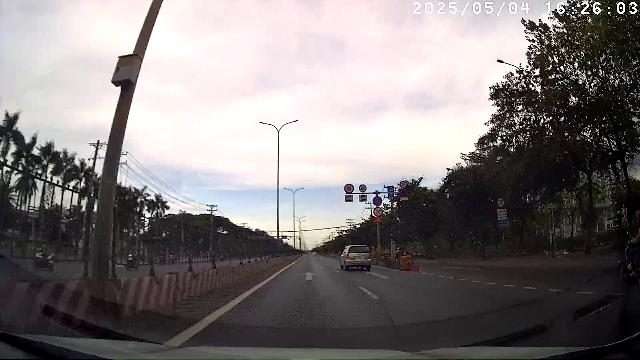127-toc-do-toi-da-50: (399, 180, 406, 187)
127-toc-do-toi-da-60: (358, 184, 368, 192)
127-toc-do-toi-da-80: (344, 183, 354, 193)
130-cam-dung-va-do-xe: (373, 196, 383, 206)
